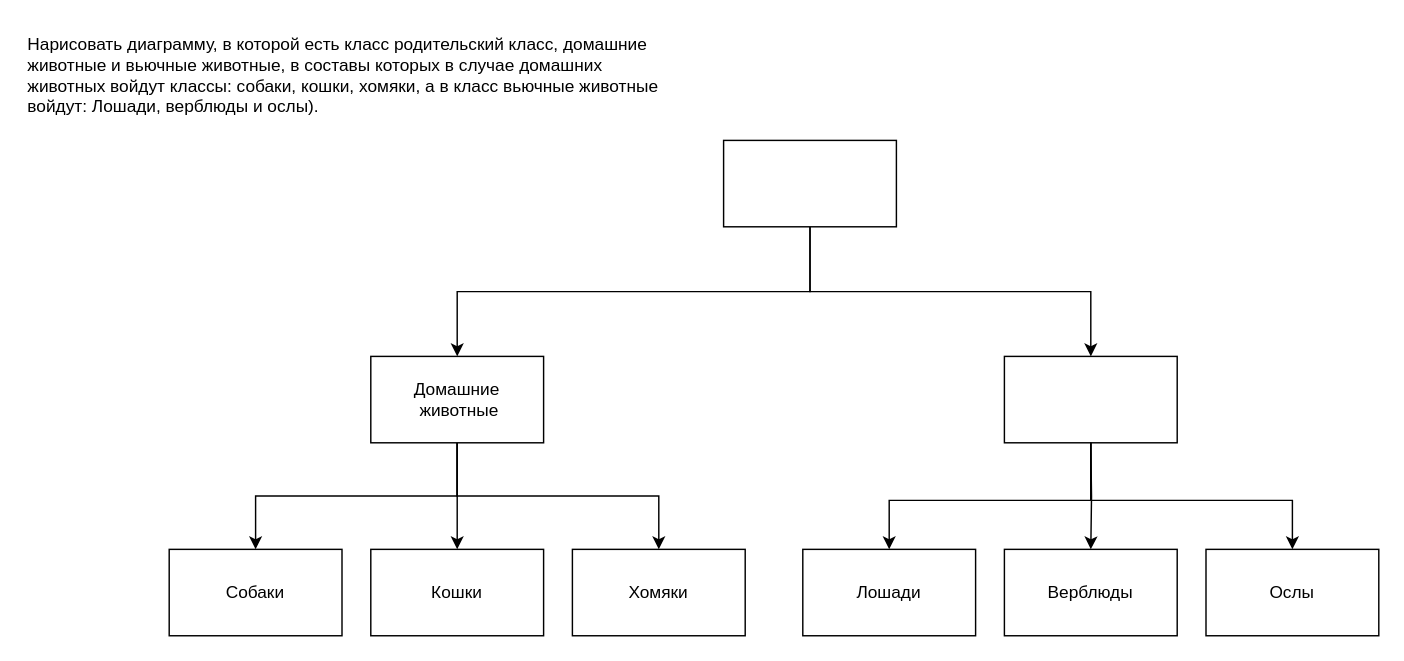
This 1404x661 diagram has some shape labels left out. The centre of each missing label's shape, as x and y in pixels:
Вьючные животные: (1090,399)
Животные: (809,183)
